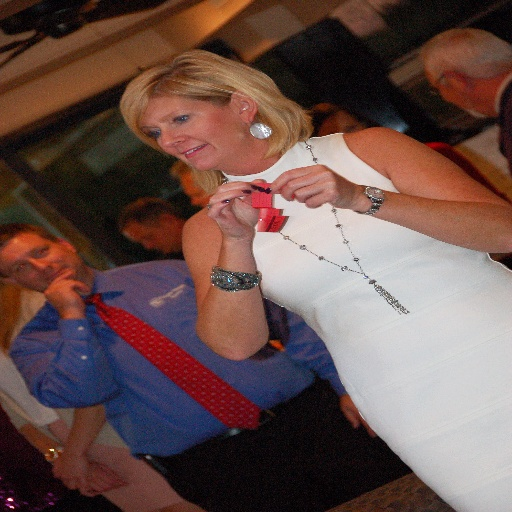hand: (260, 154, 386, 210), (202, 178, 268, 240), (40, 266, 93, 318), (48, 450, 91, 496), (337, 396, 378, 438), (88, 461, 125, 496)
